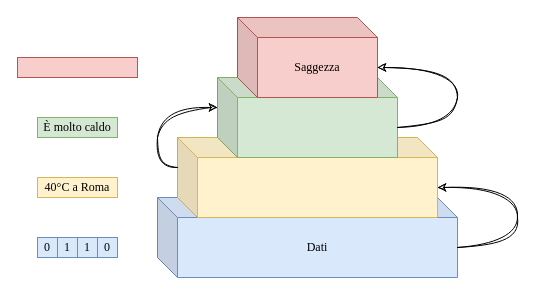
The diagram is 536 pixels wide and 295 high, and some of its shapes have lost their labels. The shapes that lost their labels are listed below. From the top down, each one's centre as x and y in pixels, then its label:
the point at 77,67: Bere molta acqua
the point at 307,117: Conoscenza
the point at 307,177: Informazioni
